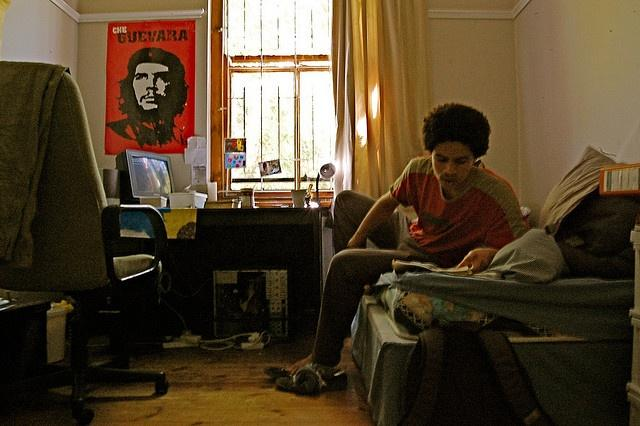Kursi: (0, 60, 168, 425)
